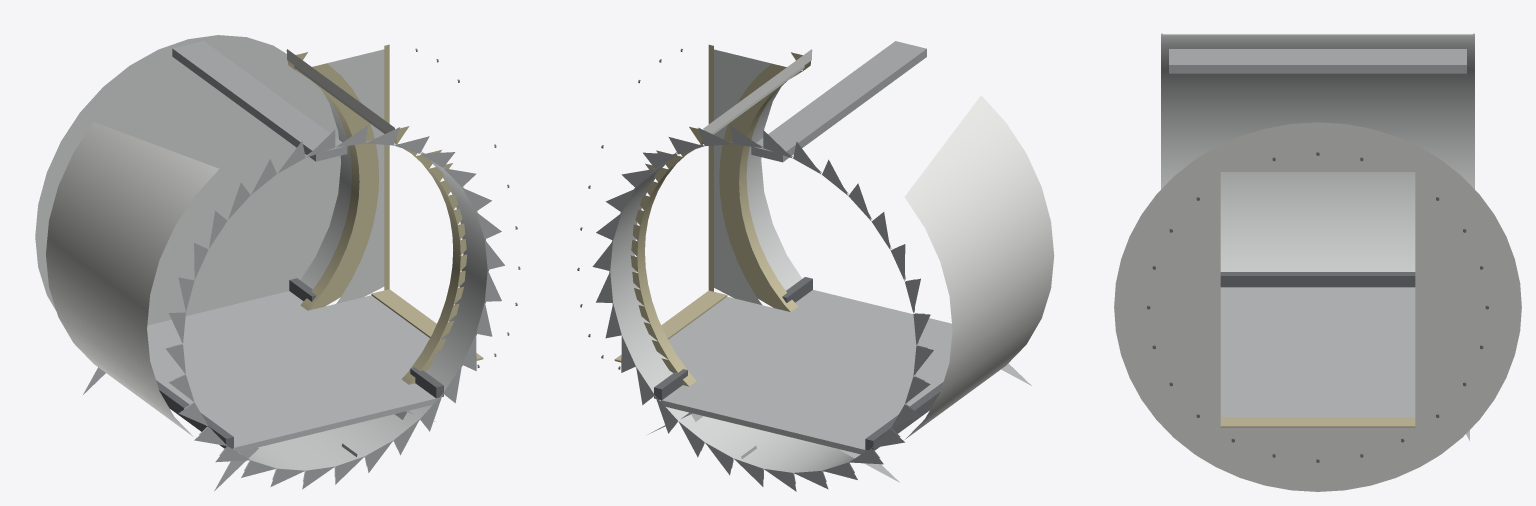
File: habSegJRb_steel_meshin.glb
The picture shows the model from 3 angles, left to right: view 1: azimuth 30°, elevation 25°; view 2: azimuth 150°, elevation 25°; view 3: azimuth 270°, elevation 25°; orthographic projection. The views are drawn at different scales.
Parts seen in each view (by area): view 1: habSegJRb_steel_meshin; view 2: habSegJRb_steel_meshin; view 3: habSegJRb_steel_meshin.
Part boxes in pixels (x1,y1,x2,y2): habSegJRb_steel_meshin: [35, 35, 520, 491]; habSegJRb_steel_meshin: [577, 41, 1054, 491]; habSegJRb_steel_meshin: [1114, 33, 1521, 491].
Size of the model in its own units: 2.66 by 2.6 by 2.6.
